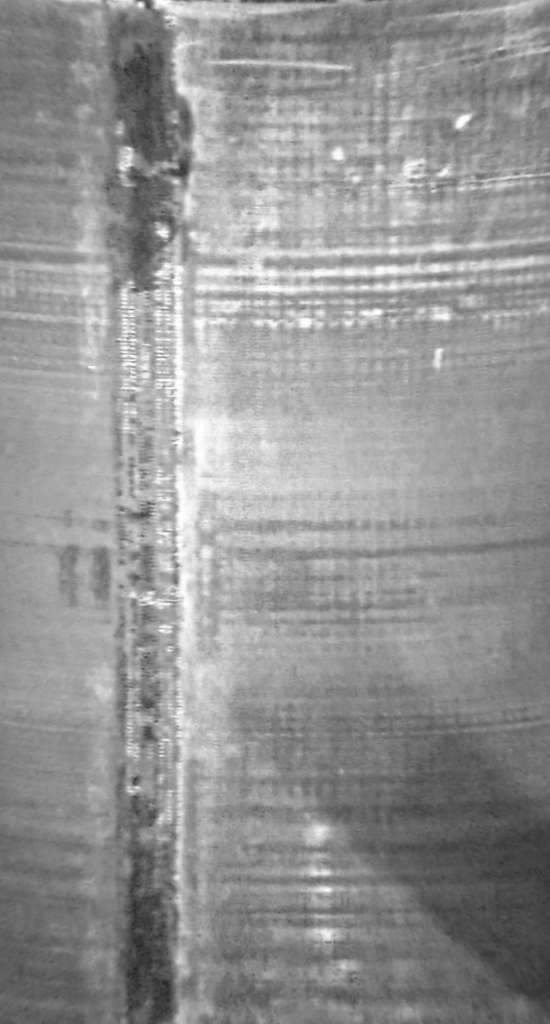splice: (98, 5, 198, 1024)
